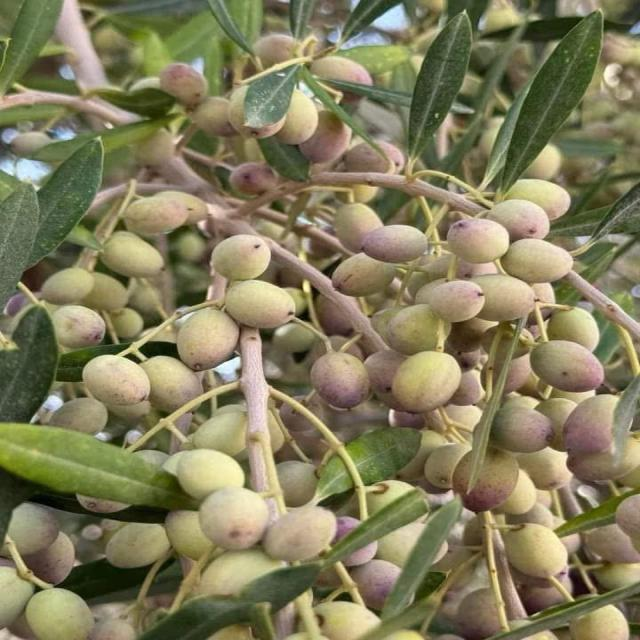Healthy: (200, 487, 271, 550), (391, 351, 461, 413), (262, 505, 337, 561), (177, 307, 238, 370), (223, 280, 300, 329), (503, 523, 568, 581), (531, 341, 604, 392), (24, 587, 94, 639), (83, 355, 150, 407), (310, 351, 371, 408), (502, 239, 572, 285), (211, 234, 275, 281), (447, 217, 509, 265), (100, 234, 165, 279), (491, 408, 555, 453), (106, 523, 170, 568), (362, 224, 427, 263), (428, 279, 484, 323), (51, 305, 105, 350)
